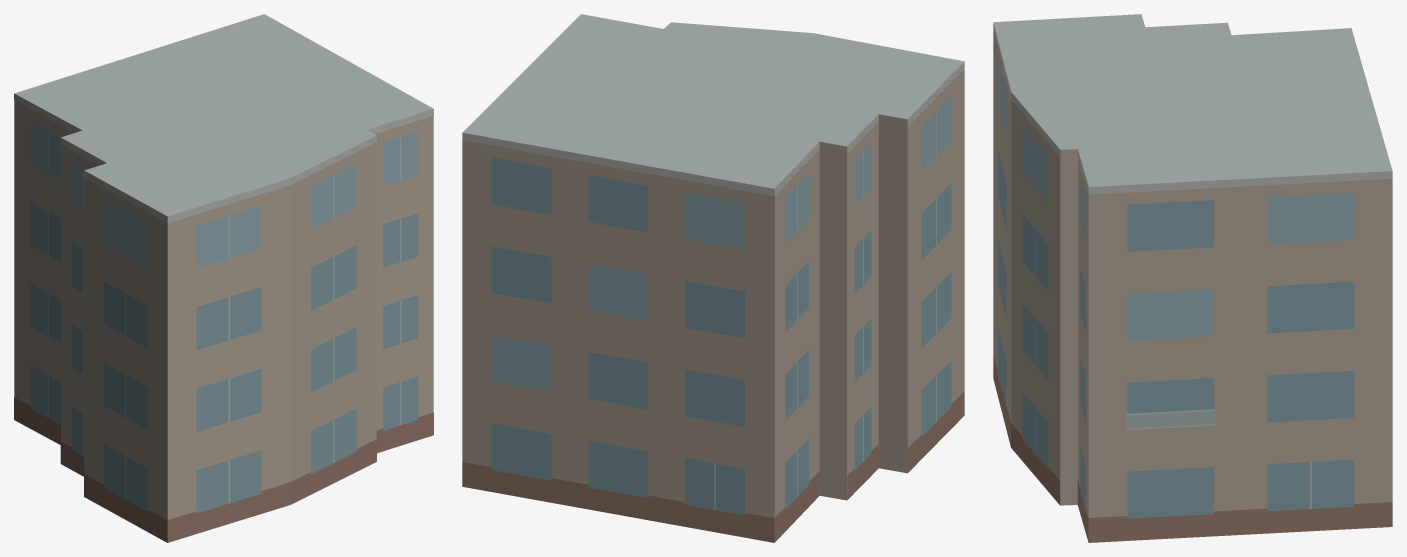
Rendered from survey-upis-32730897.glb.
3 views of the same model, side by side, from view 1: azimuth 30°, elevation 25°; view 2: azimuth 150°, elevation 25°; view 3: azimuth 270°, elevation 25° (orthographic). The views are drawn at different scales.
Parts seen in each view (by area): view 1: survey-upis-32730897.tmp; view 2: survey-upis-32730897.tmp; view 3: survey-upis-32730897.tmp.
Part boxes in pixels (<box>): survey-upis-32730897.tmp: <box>14,14,433,542</box>; survey-upis-32730897.tmp: <box>462,14,964,542</box>; survey-upis-32730897.tmp: <box>993,14,1392,542</box>.
Size of the model in its own units: 12.01 by 11.5 by 11.71.
